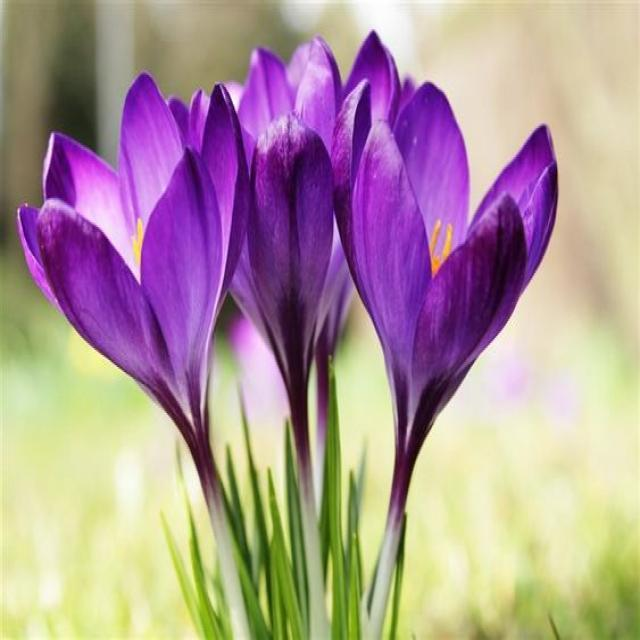Flower: (17, 70, 245, 409), (333, 78, 558, 372)
